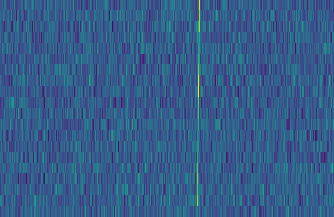signal: (192, 0, 204, 217)
